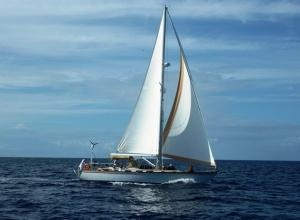fanchuan: (74, 6, 221, 182)
